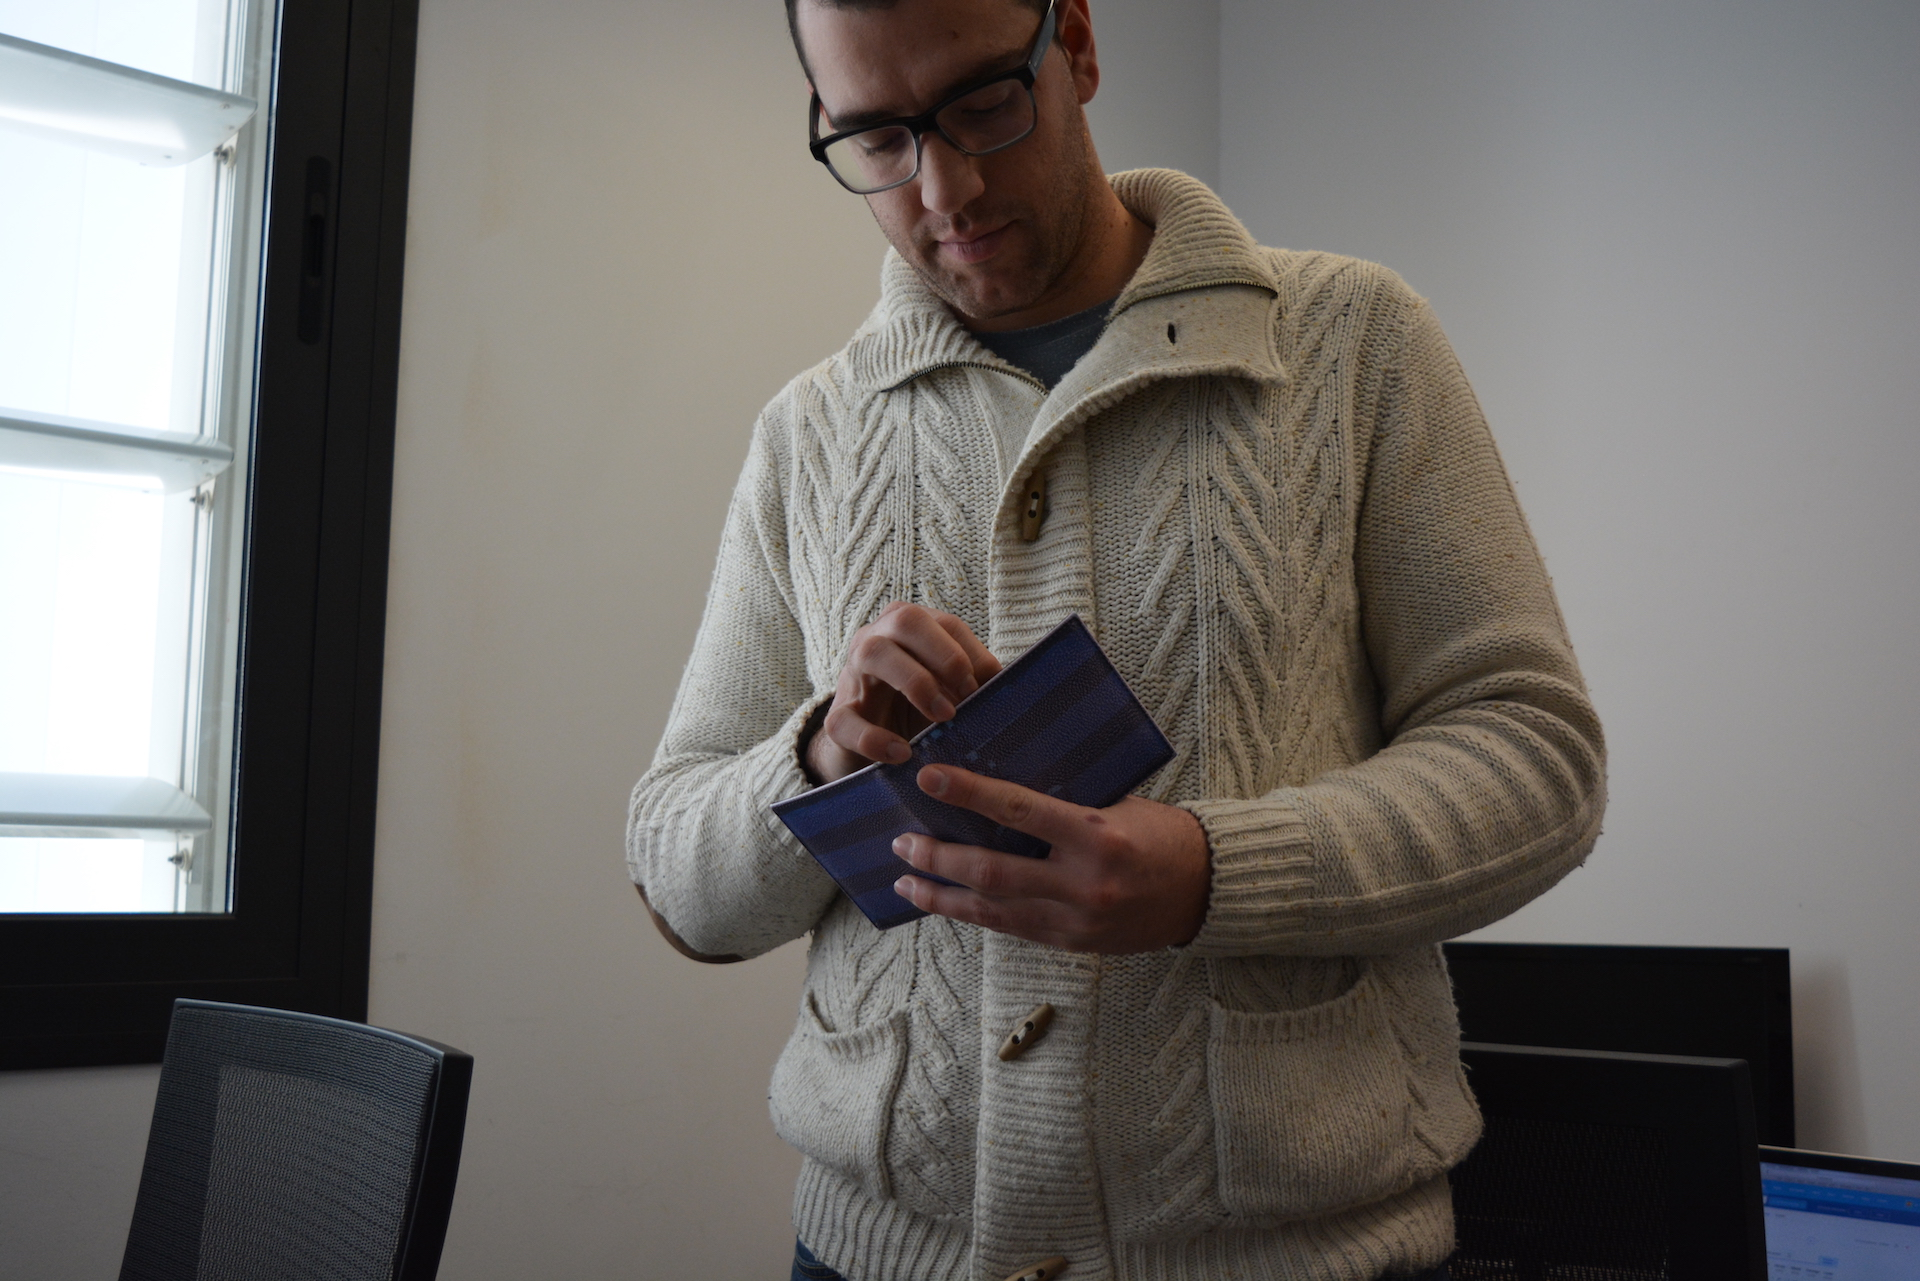monedero: (768, 612, 1179, 934)
